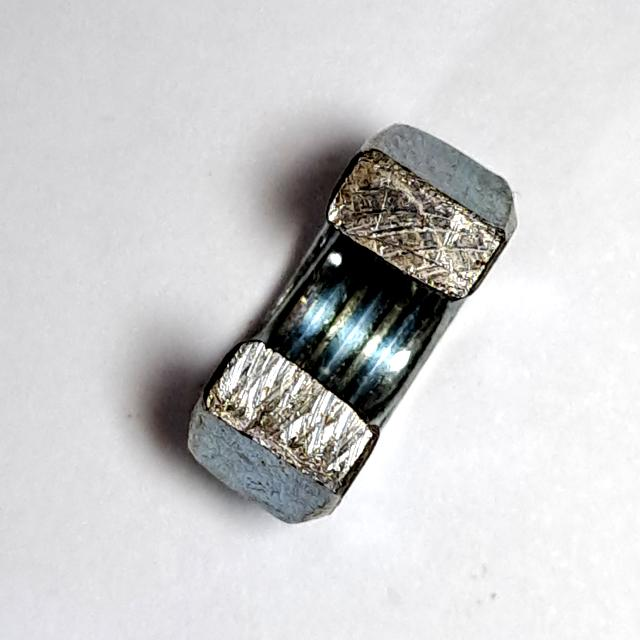Side-Fracture: (179, 115, 528, 534)
